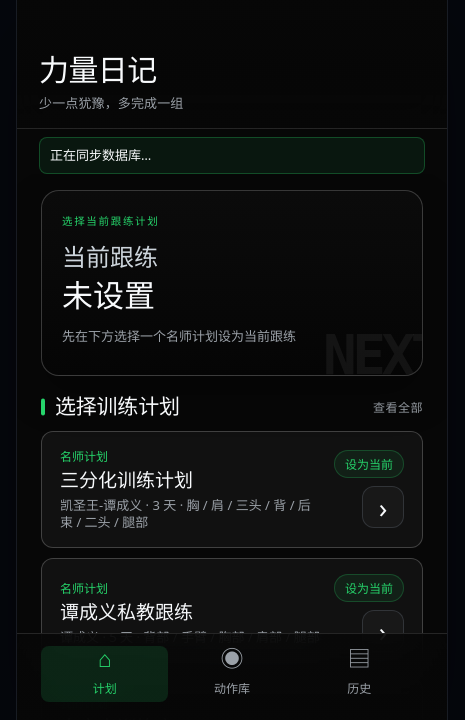
Test: fitness PWA user flows › shows a monthly training calendar with day detail and next workout suggestion
This screenshot has width=465, height=720.
Click the button "▤ 历史" at (359, 674), box [296,646,423,702]
(page scrolled)
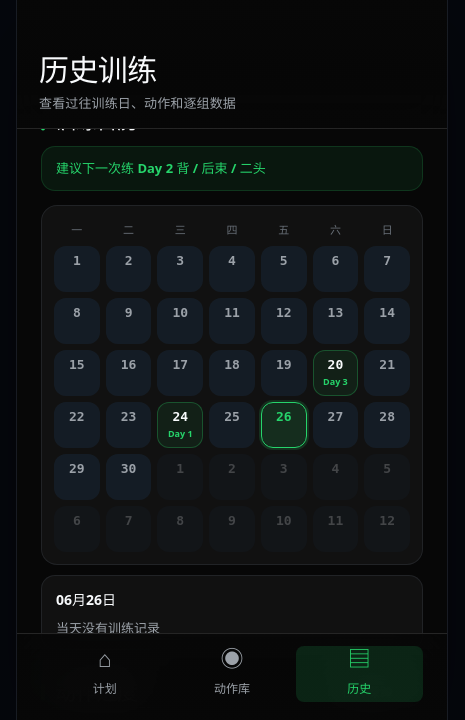
Expected: the text "建议下一次练 Day 2 背 / 后束 / 二头" is shown, [41,146,423,191]
Click the button with aria-label "06月24日 有训练 Day 1" at (180, 425), box [157,402,203,448]
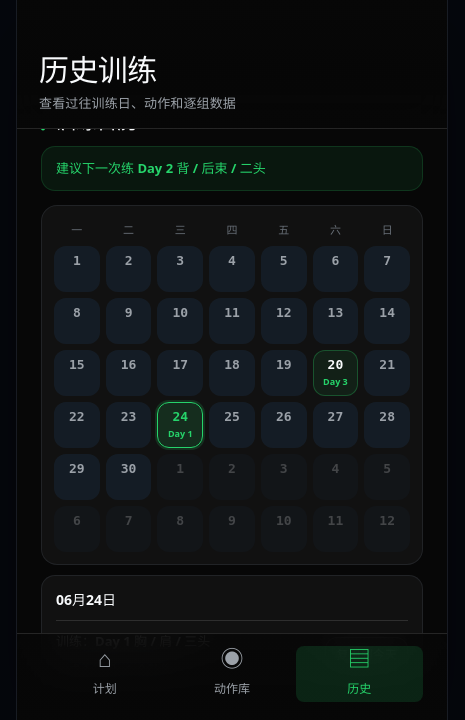
Expected: the text "完成 1/2 组 · 1 个动作" is shown, [56,661,172,678]
Expected: the text "训练：Day 1 胸 / 肩 / 三头" is shown, [56,632,210,650]
Click the button named "06月25日 无训练" at (232, 425), box [209,402,255,448]
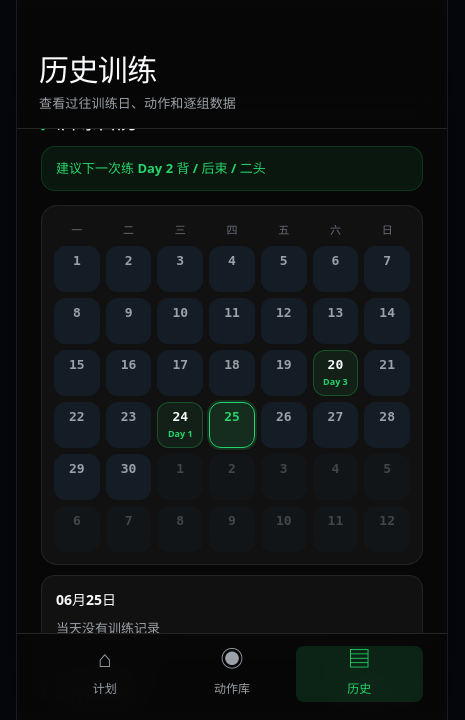
Expected: the text "当天没有训练记录" is shown, [56,619,160,637]
